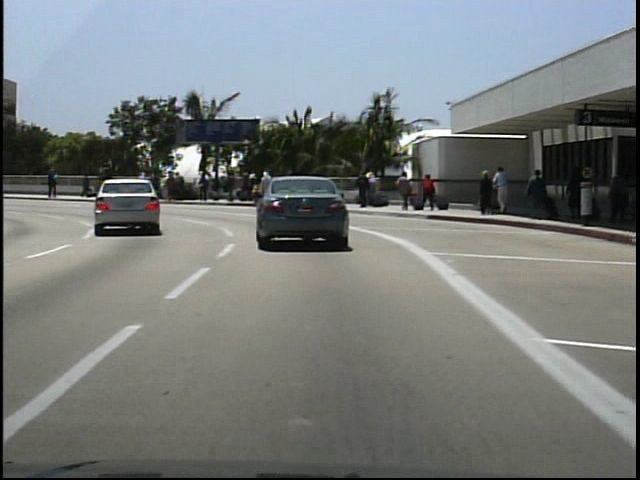person: (604, 165, 632, 227), (523, 166, 549, 223), (564, 161, 587, 223), (476, 168, 497, 220), (495, 164, 515, 217), (396, 170, 416, 213), (421, 170, 439, 212), (355, 170, 373, 210), (98, 168, 118, 198), (46, 166, 62, 200), (81, 170, 99, 198)
